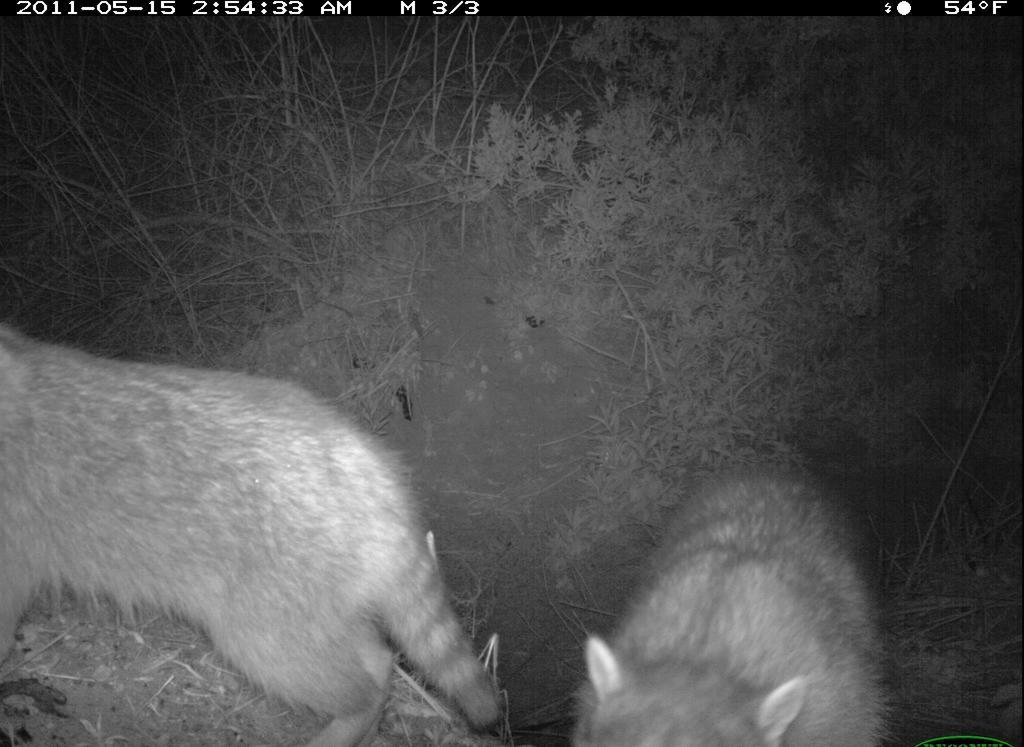raccoon: (1, 299, 506, 747), (563, 449, 898, 747)
